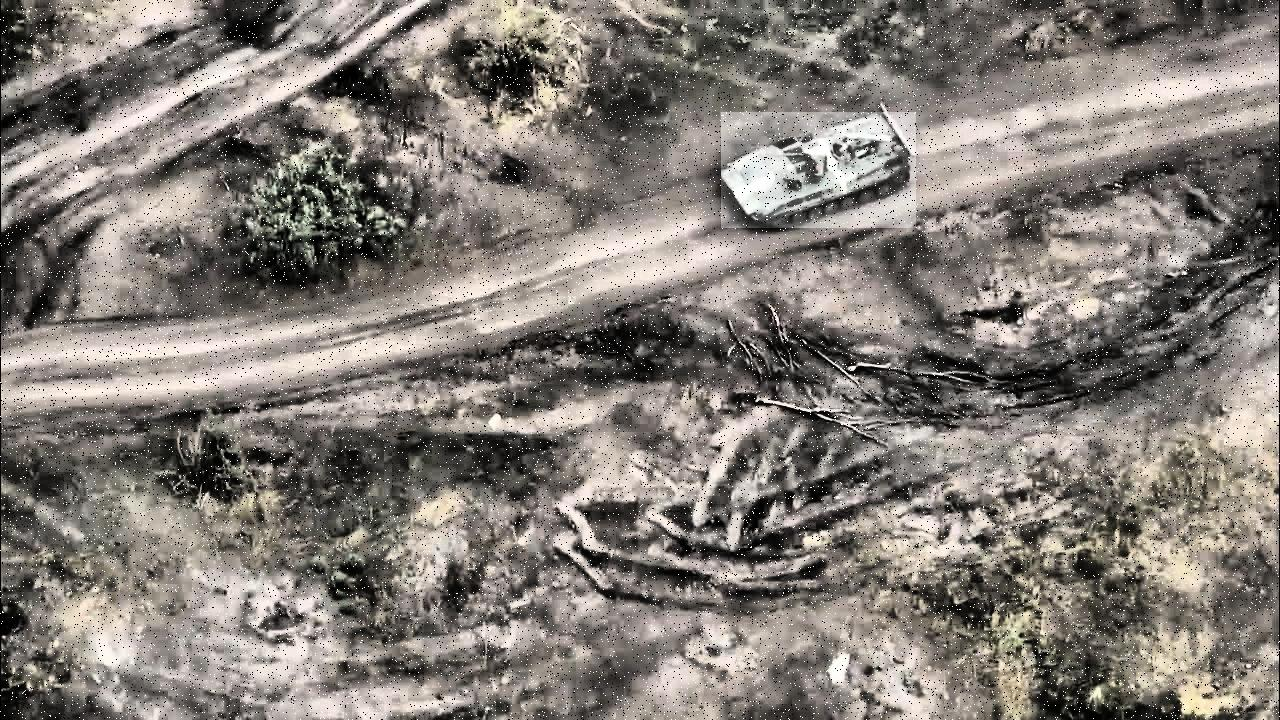military-vehicle: (722, 112, 917, 228)
